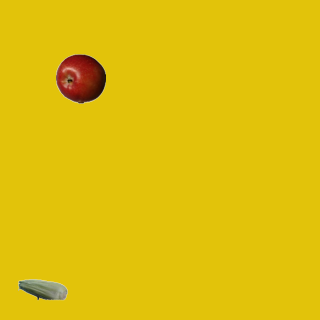Apple Braeburn: (55, 53, 105, 103)
Corn Husk: (17, 264, 67, 314)
